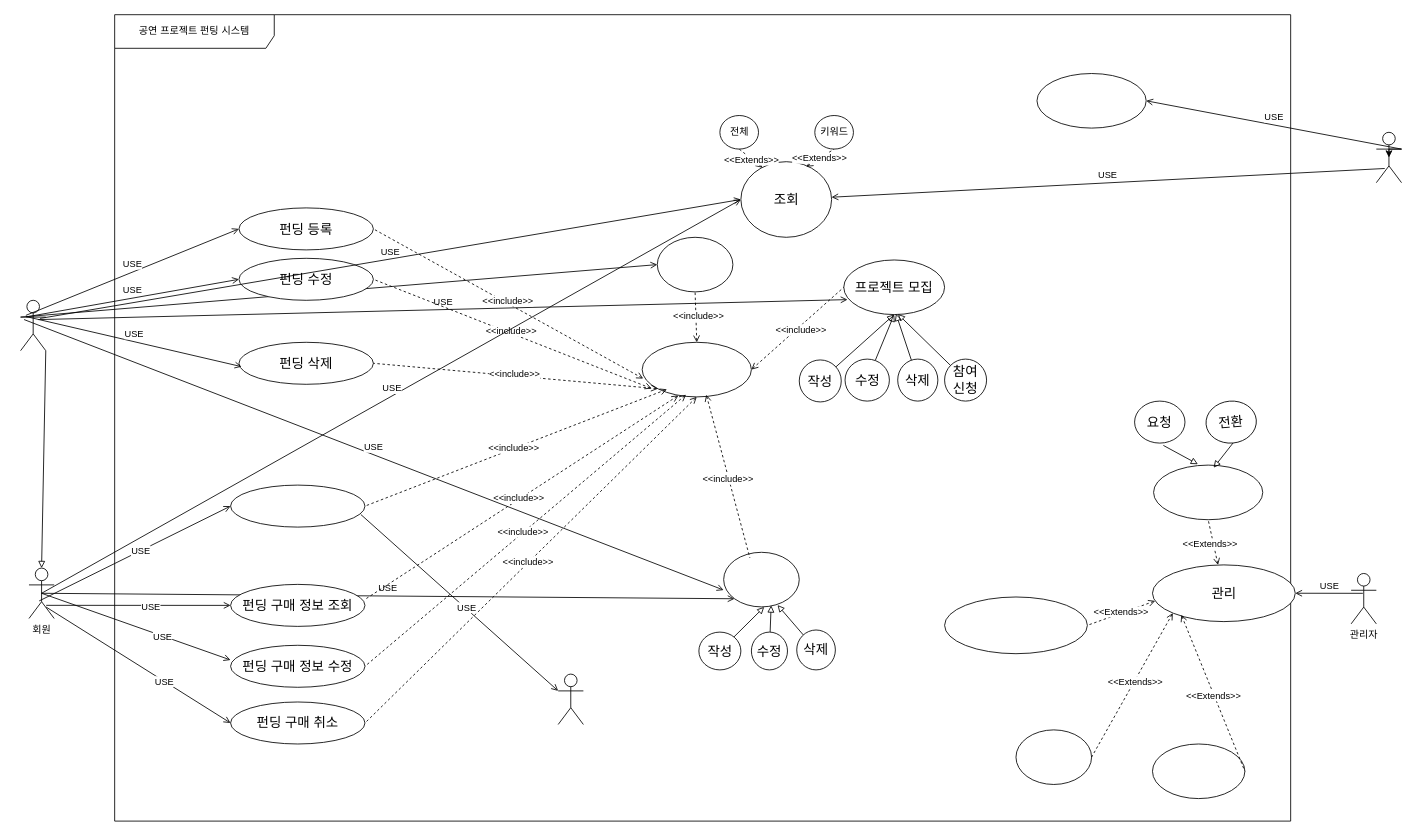
Image size: 1423x836. Some labels were removed from this diagram. Here are the shapes that lost their labels. From the top down, the centre of each, then its label:
At point (1091, 100): "회원가입".
At point (1389, 157): "비회원".
At point (694, 264): "공지".
At point (33, 325): "전문가".
At point (696, 369): "로그인".
At point (297, 505): "펀딩 구매".
At point (1208, 492): "회원 / 전문가 계정 전환 관리".
At point (761, 579): "커뮤니티".
At point (1015, 625): "프로젝트 모집 관리".
At point (570, 698): "걸제시스템 API".
At point (1053, 756): "공지 관리".
At point (1198, 771): "커뮤니티 관리".
